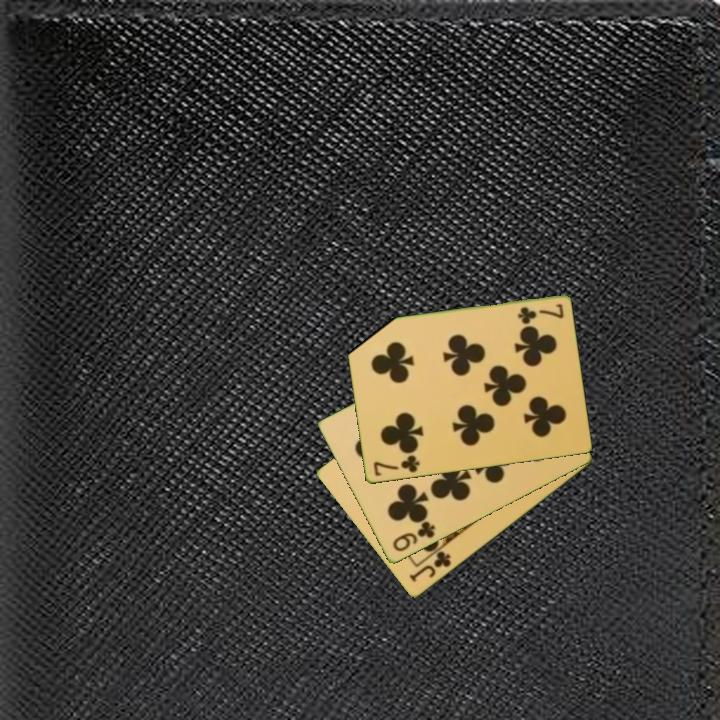7c: (369, 452, 422, 479), (514, 301, 566, 326)
9c: (389, 518, 438, 555)
Jc: (406, 548, 454, 585)
